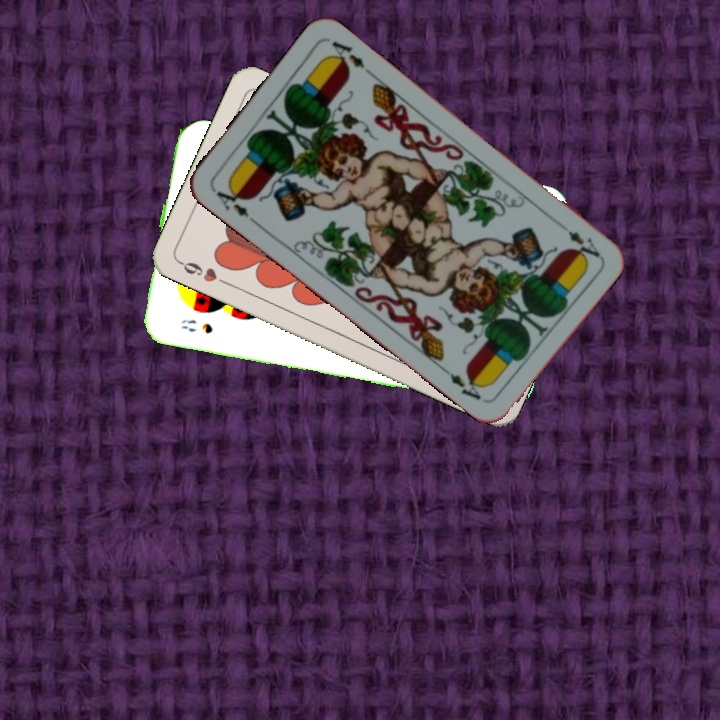EA: (209, 180, 259, 227), (564, 226, 603, 260)
H9: (175, 257, 231, 287)
S8: (177, 315, 215, 336)
